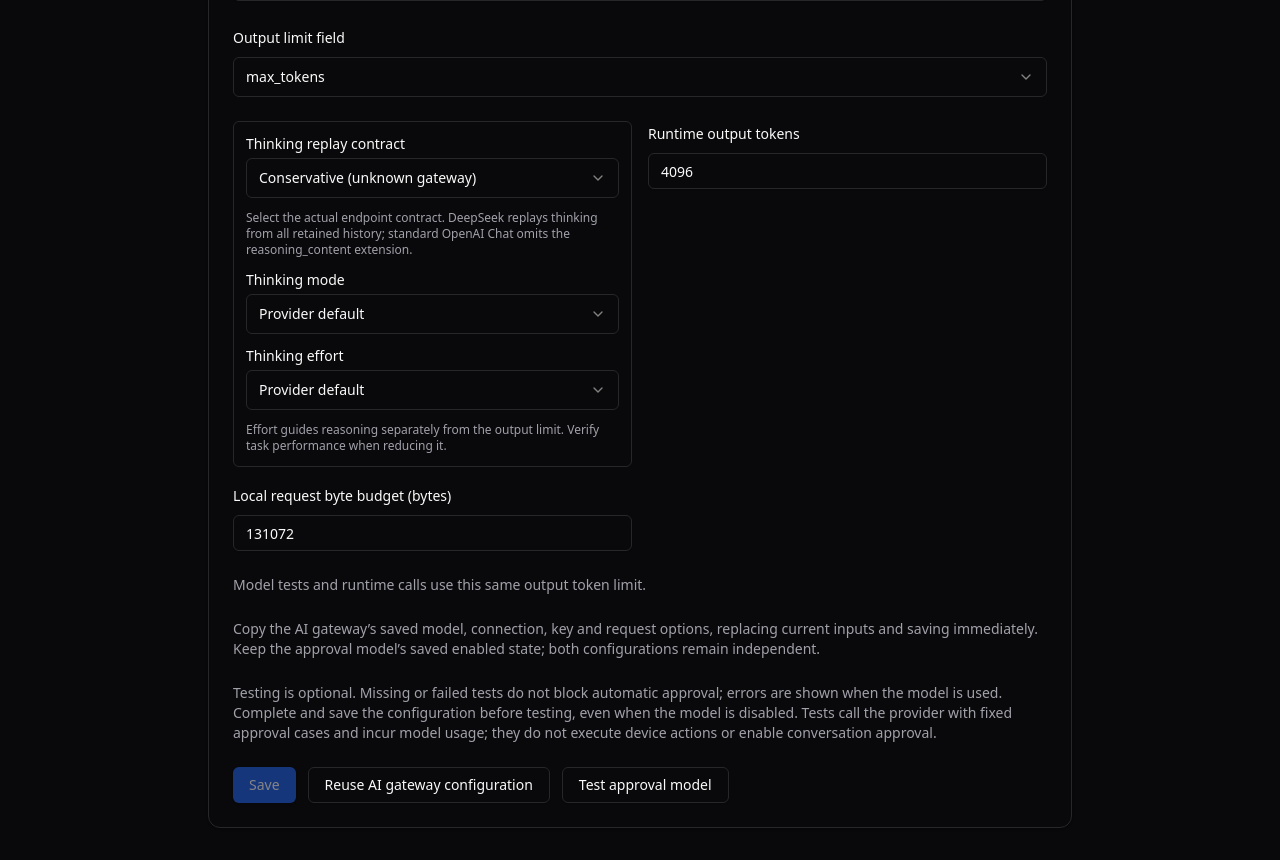
Scenario: explicitly reusing the saved AI gateway › asks before overwriting disabled saved approval settings
(page scrolled)
Step 1. Click the button "Reuse AI gateway configuration" → click(429, 785), box top-left (308, 767), bottom-right (550, 803)
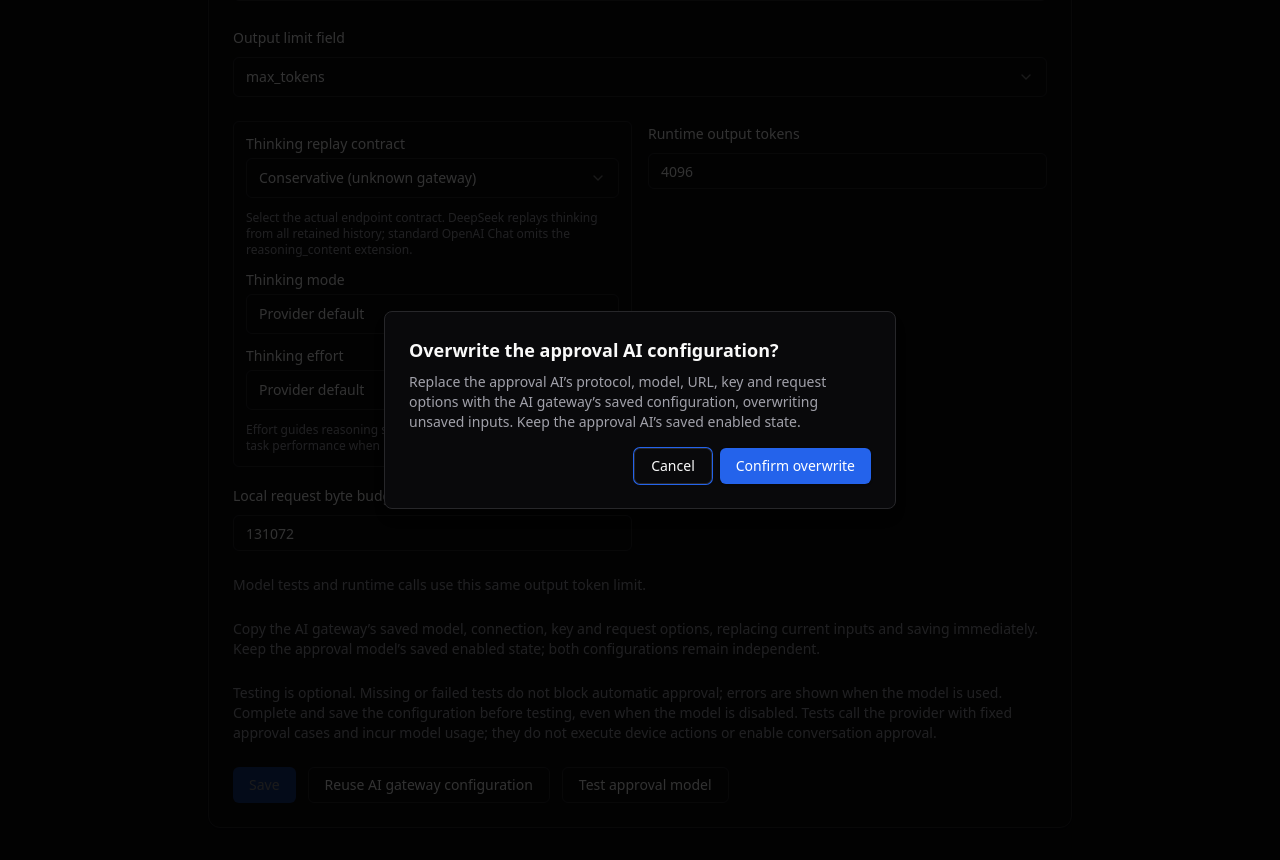
Expected: the dialog shows "Overwrite the approval AI configuration?", top-left (409, 338), bottom-right (779, 362)
